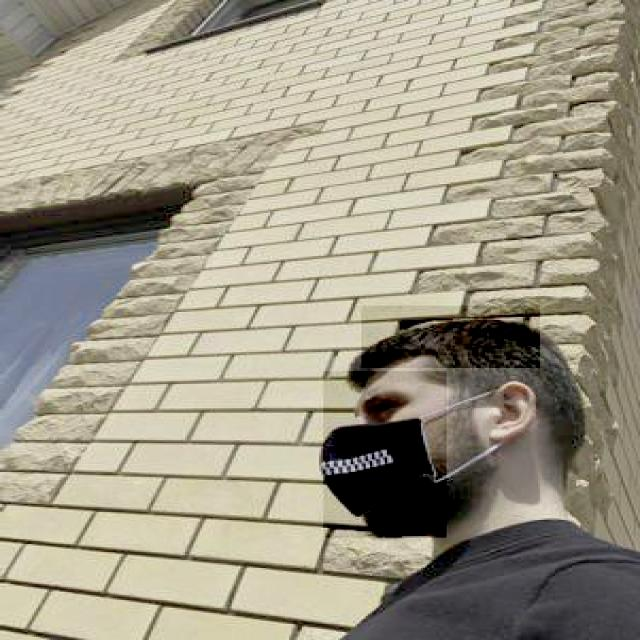face_mask: (321, 371, 447, 539)
head_nohelmet: (359, 306, 540, 370)
